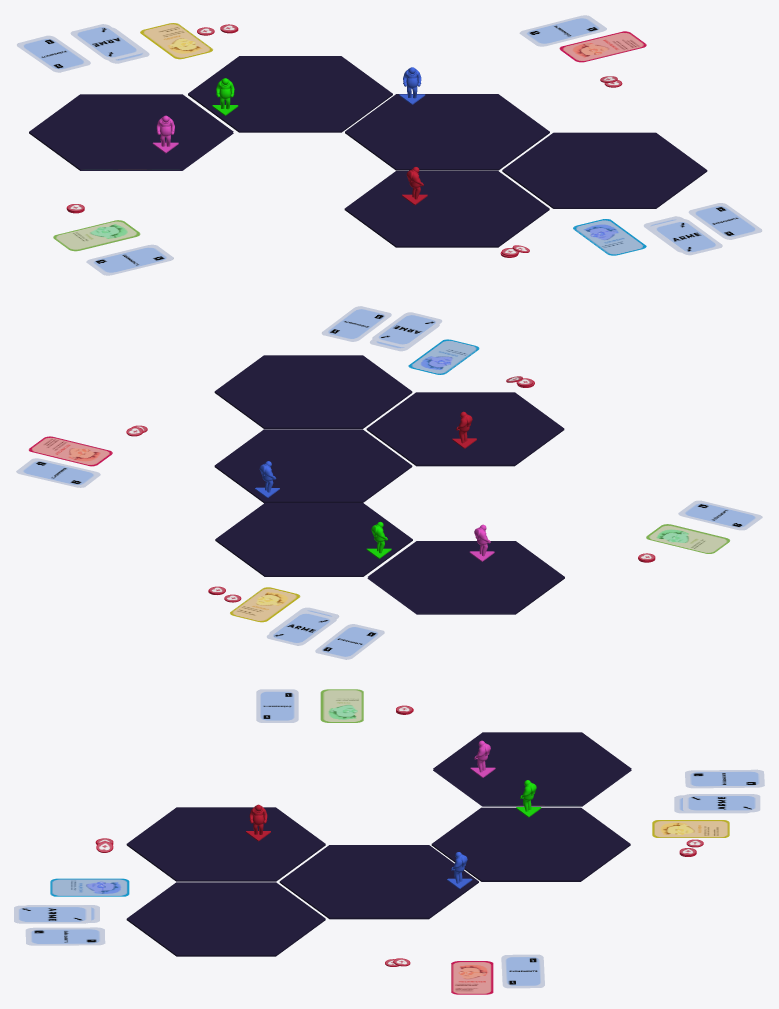
Rendered from plateau_tris.fbx.
The picture shows the model from 3 angles, top to bottom: view 1: azimuth 30°, elevation 25°; view 2: azimuth 150°, elevation 25°; view 3: azimuth 270°, elevation 25°; orthographic projection. The views are drawn at different scales.
Visible parts, largest first — view 1: Circle.001, Circle.019, Circle.021, Circle.022, Circle.018, Circle.023, Circle.025, Circle.026, Circle.024, Circle.017; view 2: Circle.001, Circle.019, Circle.022, Circle.021, Circle.018, Circle.023, Circle.025, Circle.026, Circle.024, Circle.017; view 3: Circle.001, Circle.019, Circle.021, Circle.022, Circle.024, Circle.018, Circle.025, Circle.026, Circle.023, Circle.017.
Part boxes in pixels (box(x1,y1,x2,y2)): Circle.001: box(29, 56, 707, 247); Circle.019: box(559, 31, 646, 255); Circle.021: box(70, 24, 149, 63); Circle.022: box(643, 216, 722, 255); Circle.018: box(53, 220, 140, 251); Circle.023: box(86, 244, 173, 275); Circle.025: box(519, 15, 606, 46); Circle.026: box(17, 35, 90, 72); Circle.024: box(688, 203, 762, 239); Circle.017: box(140, 23, 213, 59); Circle.001: box(214, 355, 564, 614); Circle.019: box(28, 339, 479, 466); Circle.022: box(370, 312, 442, 351); Circle.021: box(266, 607, 339, 645); Circle.018: box(646, 524, 730, 553); Circle.023: box(678, 500, 762, 530); Circle.025: box(16, 458, 100, 487); Circle.026: box(315, 624, 384, 659); Circle.024: box(321, 306, 391, 341); Circle.017: box(230, 587, 300, 622); Circle.001: box(126, 732, 631, 956); Circle.019: box(50, 878, 493, 994); Circle.021: box(674, 794, 760, 813); Circle.022: box(14, 905, 99, 923); Circle.024: box(25, 927, 105, 945); Circle.018: box(320, 689, 363, 722); Circle.025: box(501, 954, 544, 988); Circle.026: box(685, 769, 764, 788); Circle.023: box(256, 689, 298, 722); Circle.017: box(652, 820, 729, 837).
Size of the model in its own units: 8473 by 432 by 8810.
14 materials, 10 textured.
